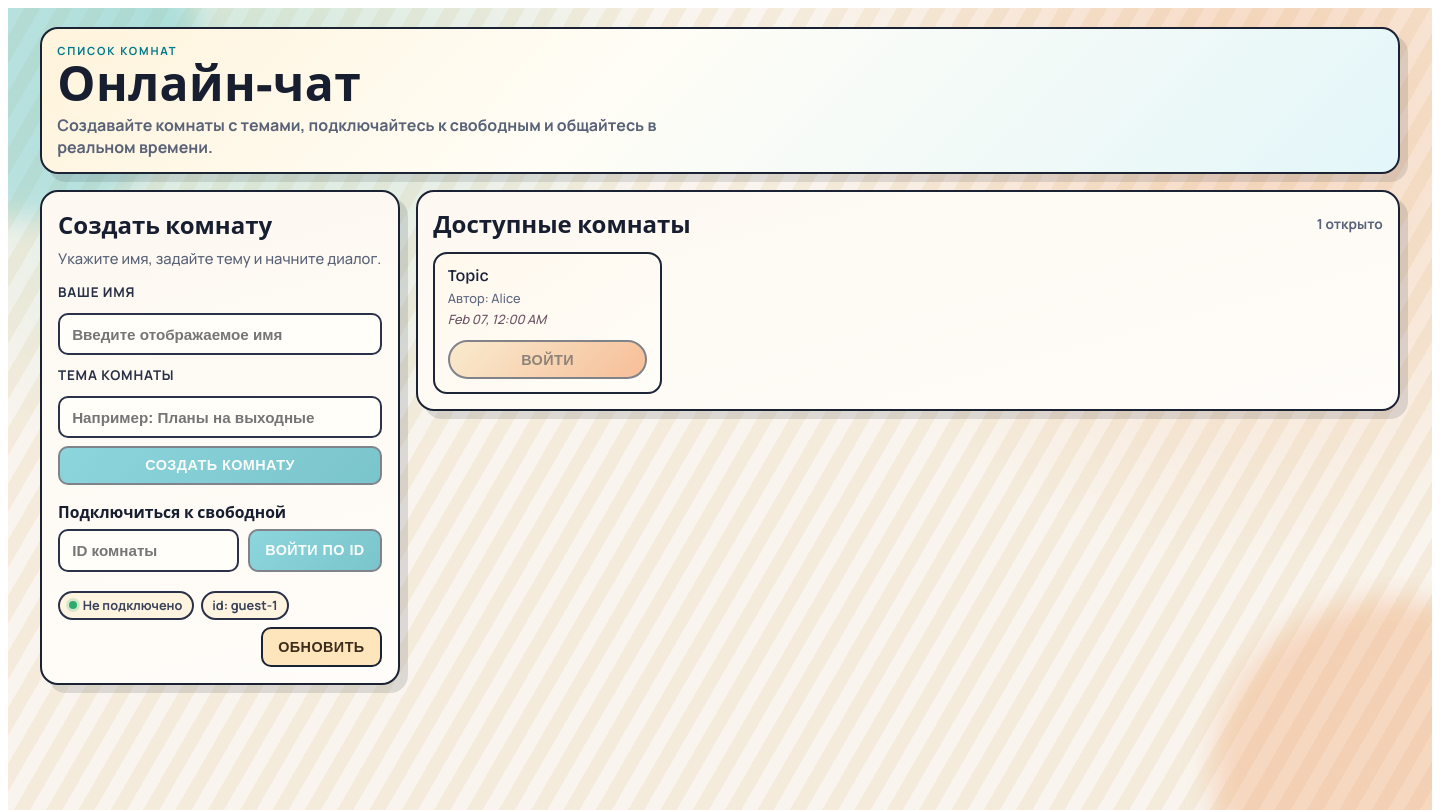
App › renders participant system event in room chat
The image size is (1440, 810).
Type "Bob" into the field with id "user-name". click: (220, 334)
box: [58,313,382,355]
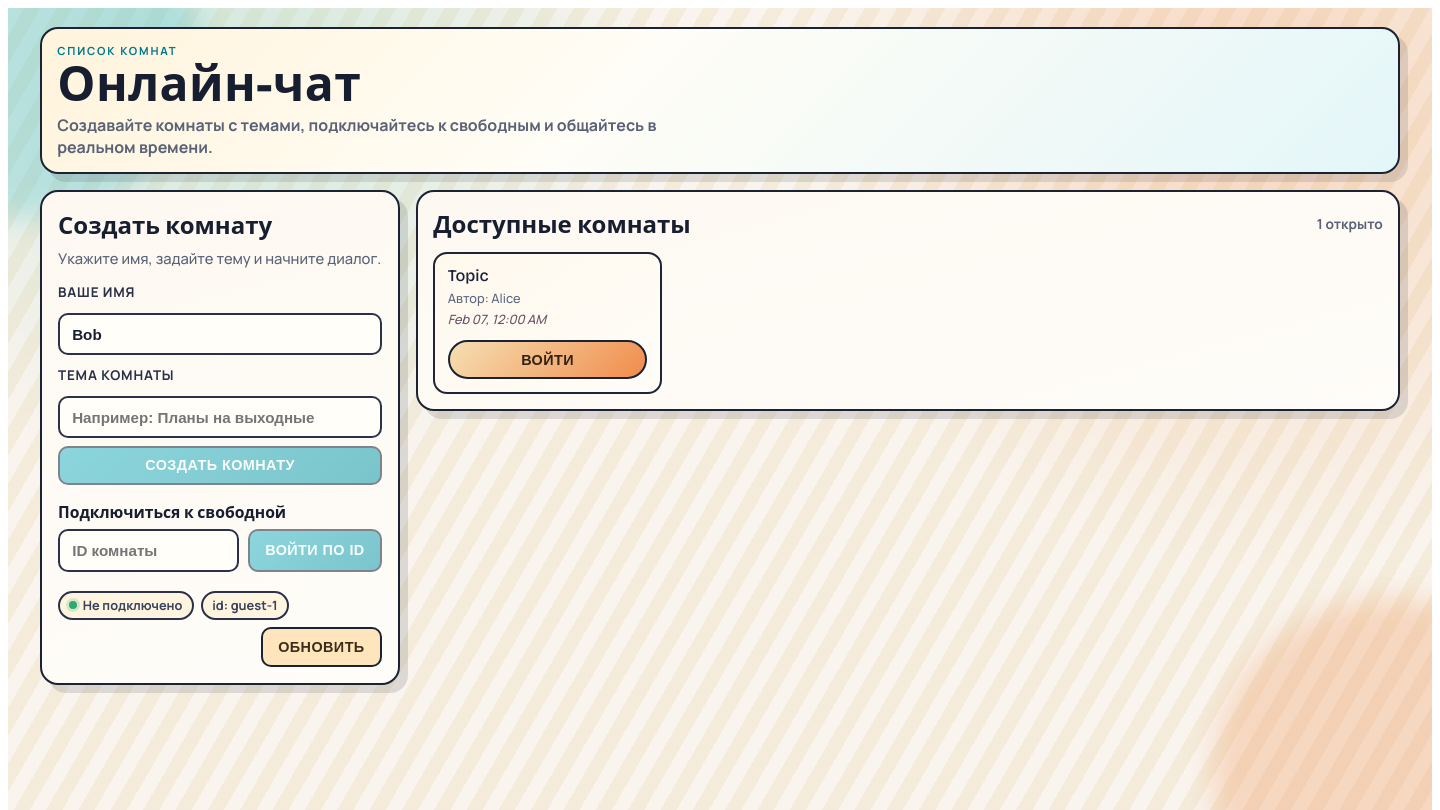
Click the button "Войти". click: (548, 360)
box: [448,340,648,379]
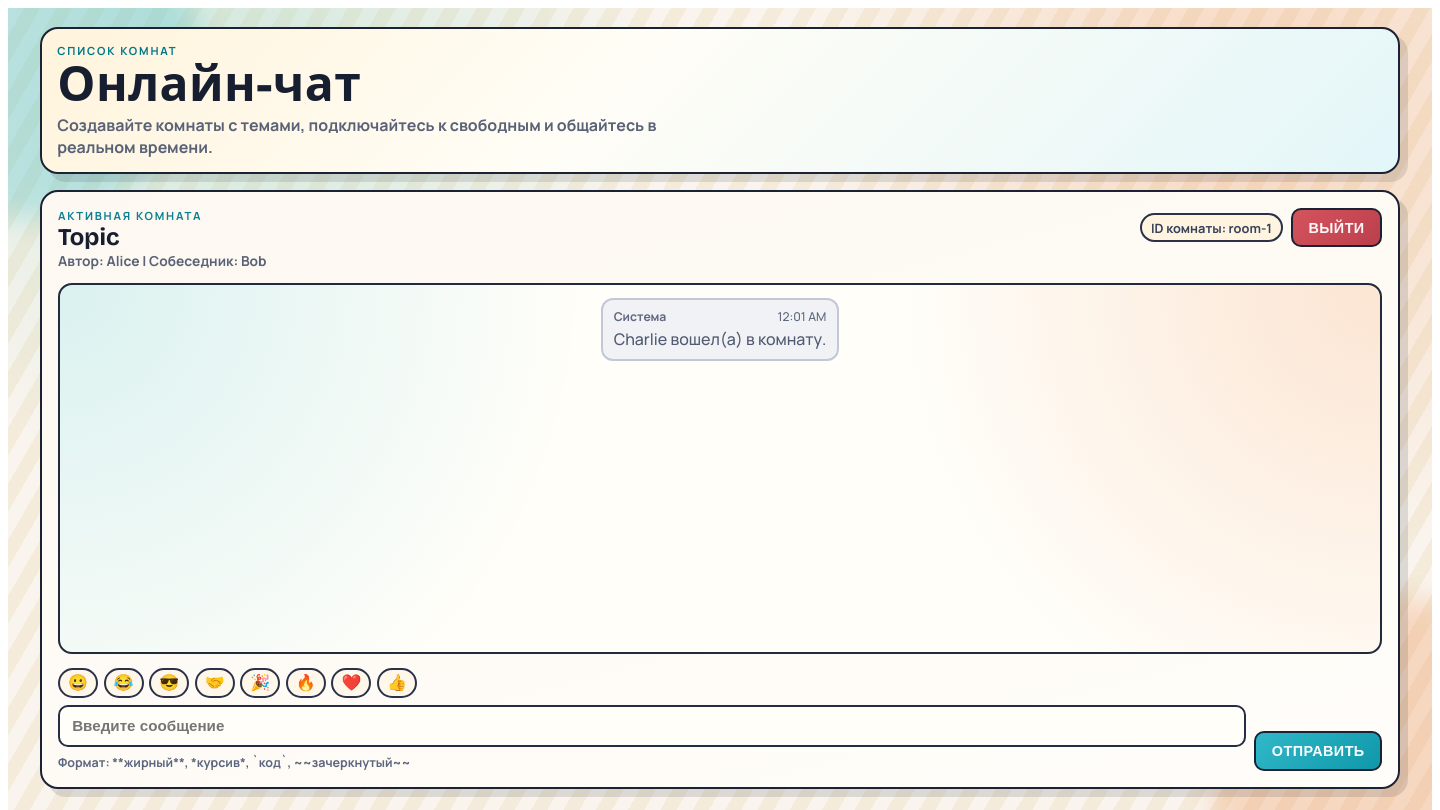
Result: the text "Charlie вошел(а) в комнату." is shown at [614,328,826,350]
